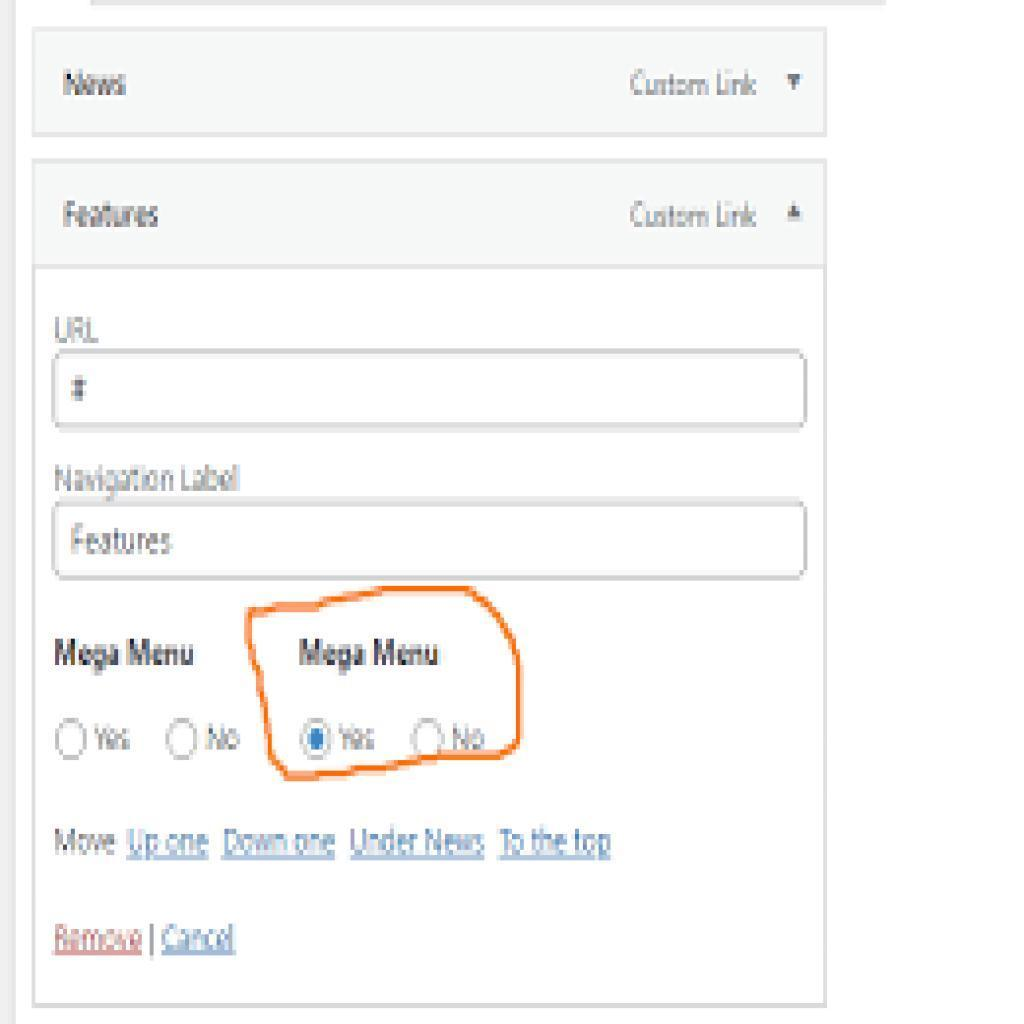dropdown: (32, 158, 827, 271), (33, 29, 827, 139)
input: (56, 349, 806, 428), (55, 504, 808, 577)
radio: (160, 707, 205, 770), (404, 714, 447, 766), (298, 712, 339, 766), (55, 711, 90, 768)
